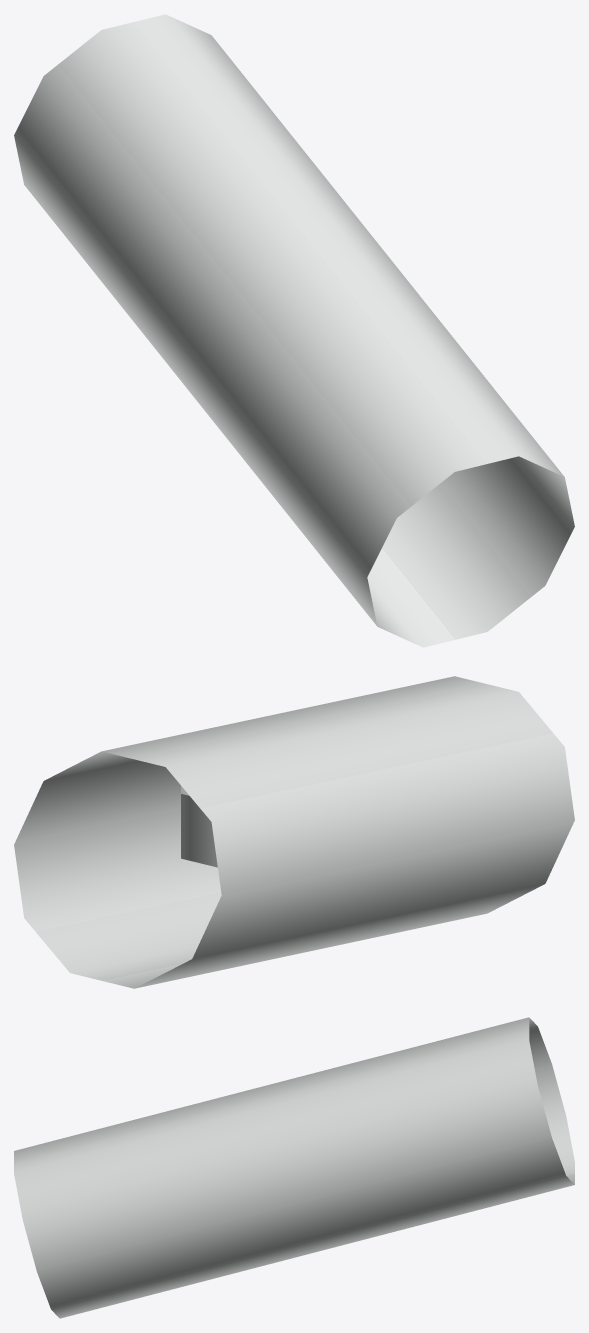
Rendered from trusssignalarm_sloped8_c4.obj.
3 views of the same model, one above another, from view 1: azimuth 30°, elevation 25°; view 2: azimuth 150°, elevation 25°; view 3: azimuth 270°, elevation 25° (orthographic). The views are drawn at different scales.
Parts seen in each view (by area): view 1: trusssignalarm_sloped8_c4; view 2: trusssignalarm_sloped8_c4; view 3: trusssignalarm_sloped8_c4.
Boxes of the visible parts, box(x1,y1,x2,y2) form: trusssignalarm_sloped8_c4: box(14, 14, 574, 647); trusssignalarm_sloped8_c4: box(14, 676, 574, 988); trusssignalarm_sloped8_c4: box(14, 1017, 574, 1318).
Bounding box in the file's own units: 0.2625 × 0.4615 × 0.8422.
